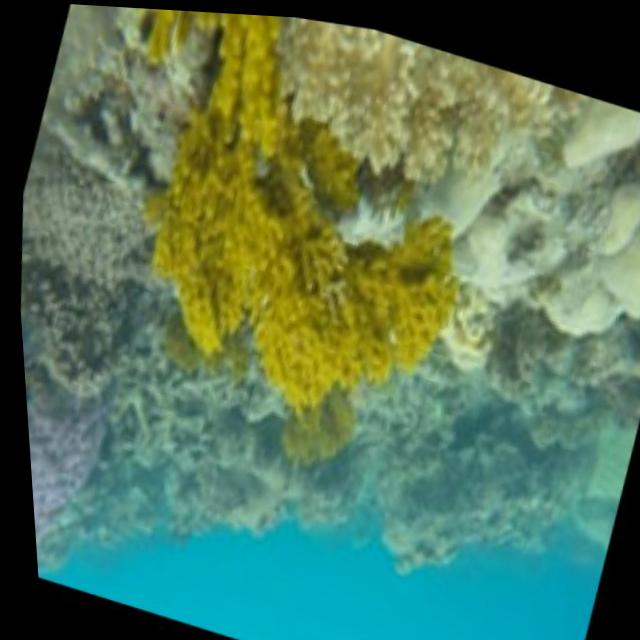Dead Coral: (350, 346, 640, 630), (13, 247, 146, 417)
